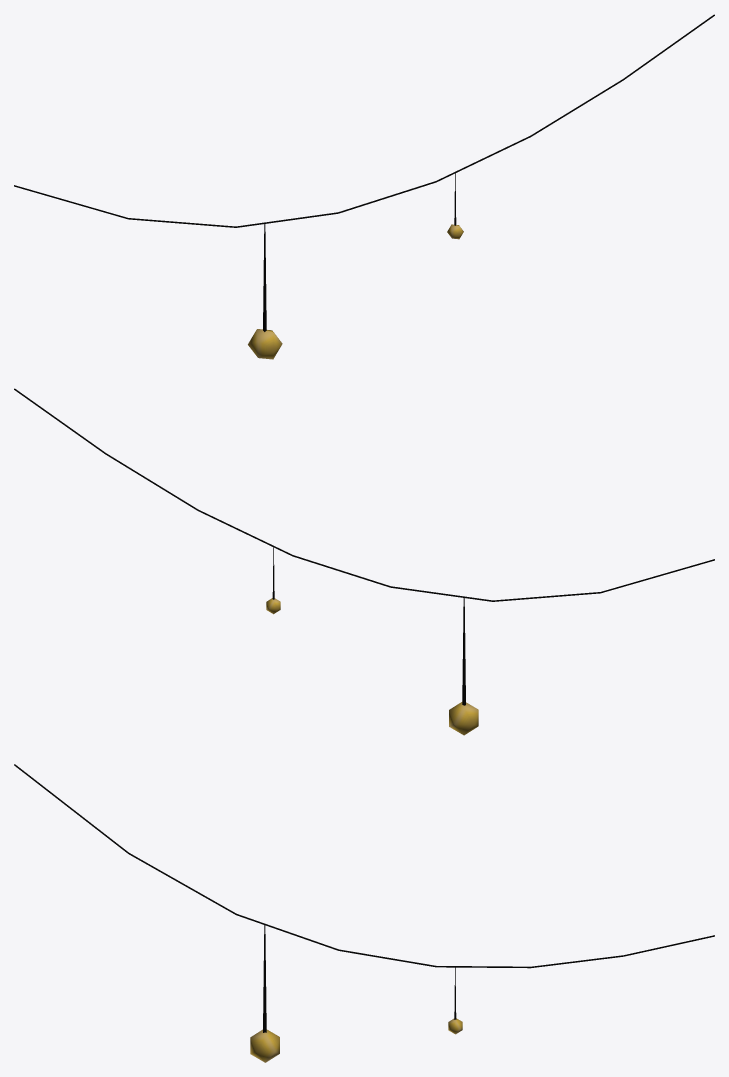
The model's file is Garland_A_5_SpherifyLamps_Yellow.fbx.
The picture shows the model from 3 angles, top to bottom: view 1: azimuth 30°, elevation 25°; view 2: azimuth 150°, elevation 25°; view 3: azimuth 330°, elevation 25°; orthographic projection.
Visible parts, largest first — view 1: Garland_A_5_SpherifyLamps_Yellow; view 2: Garland_A_5_SpherifyLamps_Yellow; view 3: Garland_A_5_SpherifyLamps_Yellow.
Boxes of the visible parts, left/top/right/bottom form: Garland_A_5_SpherifyLamps_Yellow: left=14, top=14, right=714, bottom=359; Garland_A_5_SpherifyLamps_Yellow: left=14, top=388, right=714, bottom=735; Garland_A_5_SpherifyLamps_Yellow: left=14, top=764, right=714, bottom=1062.
Bounding box in the file's own units: 673 × 214 × 29.13.
